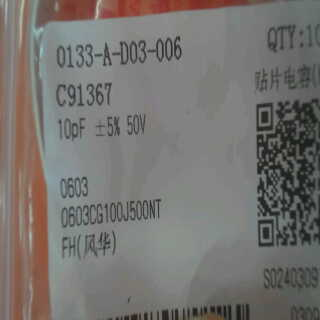10pF: (53, 114, 88, 145)
